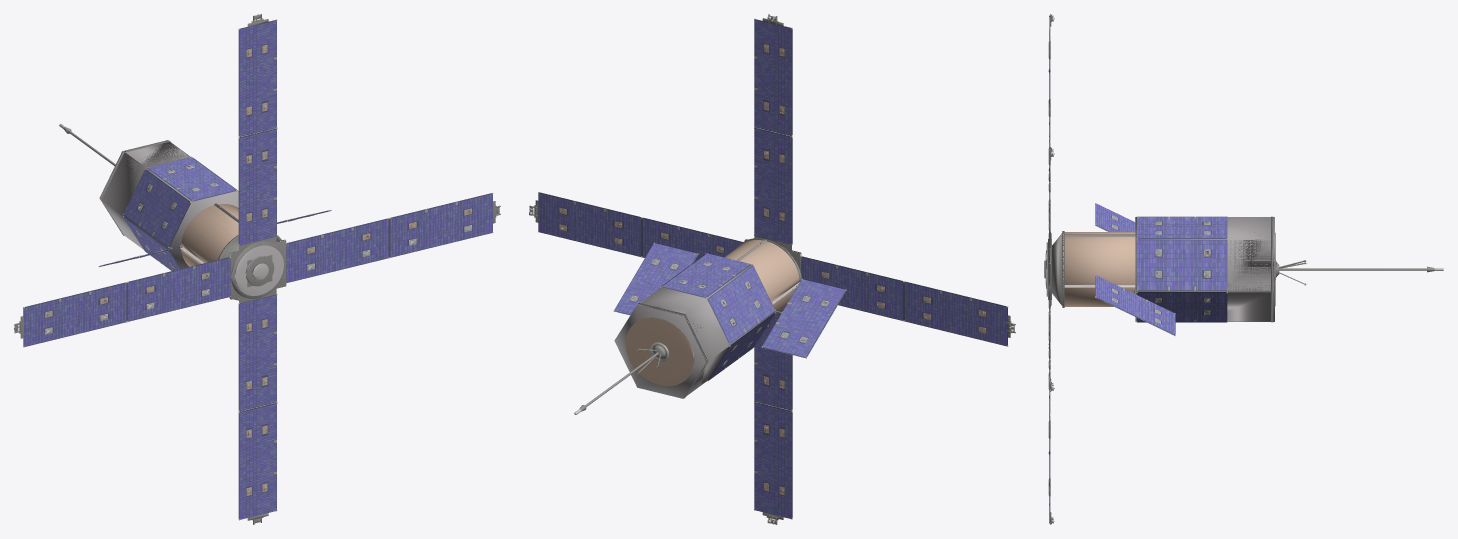
The model's file is Tselina2.fbx.
The picture shows the model from 3 angles, left to right: view 1: azimuth 30°, elevation 25°; view 2: azimuth 150°, elevation 25°; view 3: azimuth 270°, elevation 25°; orthographic projection.
Visible parts, largest first — view 1: imagetostl_mesh0; view 2: imagetostl_mesh0; view 3: imagetostl_mesh0.
Boxes of the visible parts, bbox=[...] form: imagetostl_mesh0: bbox=[14, 14, 500, 524]; imagetostl_mesh0: bbox=[529, 14, 1015, 524]; imagetostl_mesh0: bbox=[1044, 14, 1443, 524].
Bounding box in the file's own units: 4678 × 4678 × 3340.
